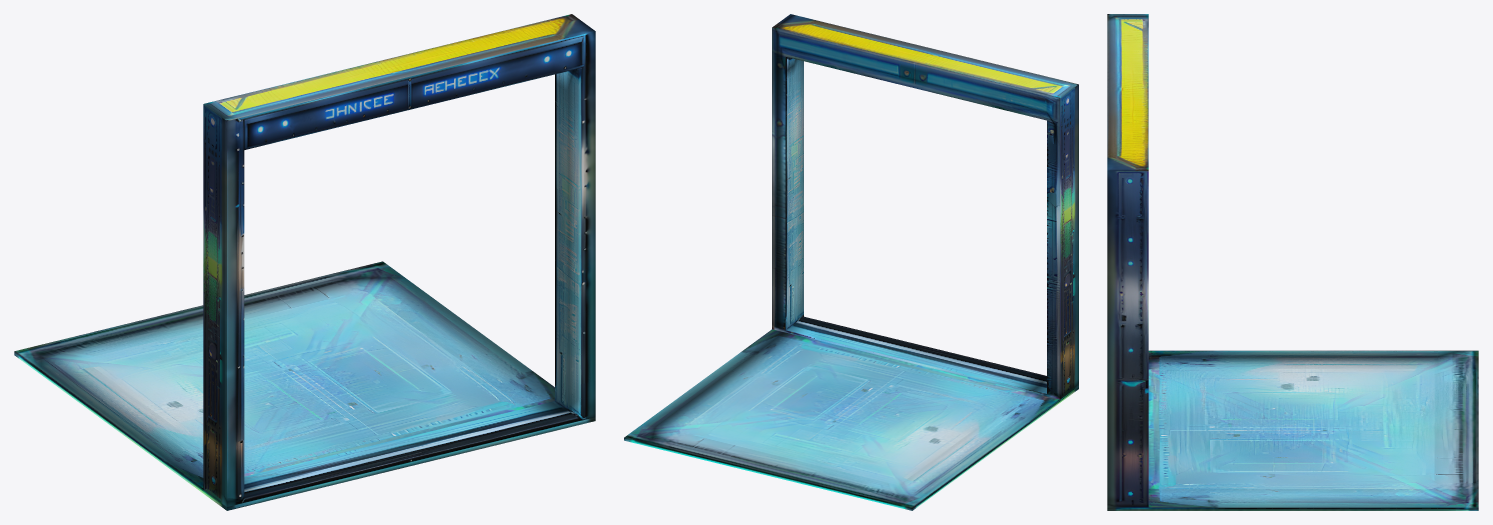
The model's file is industrialBasicFloorBigDoor.glb.
The picture shows the model from 3 angles, left to right: view 1: azimuth 30°, elevation 25°; view 2: azimuth 150°, elevation 25°; view 3: azimuth 270°, elevation 25°; orthographic projection. The views are drawn at different scales.
Visible parts, largest first — view 1: industrialBasicFloorBigDoor; view 2: industrialBasicFloorBigDoor; view 3: industrialBasicFloorBigDoor.
Part boxes in pixels (bbox=[...]): industrialBasicFloorBigDoor: bbox=[14, 14, 595, 510]; industrialBasicFloorBigDoor: bbox=[624, 14, 1078, 510]; industrialBasicFloorBigDoor: bbox=[1107, 14, 1478, 510].
Bounding box in the file's own units: 1 × 1.01 × 1.
1 material, 1 textured.
